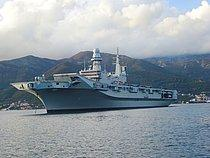MIL_Ship: (10, 45, 179, 112)
